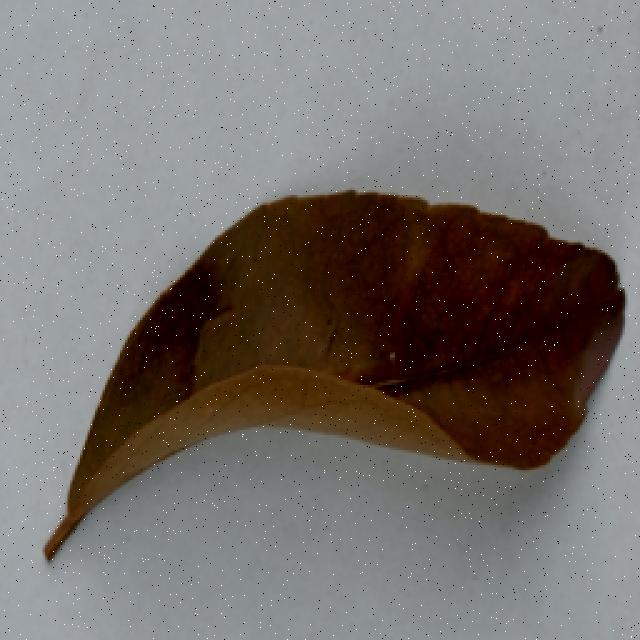healthy: (32, 180, 627, 594)
